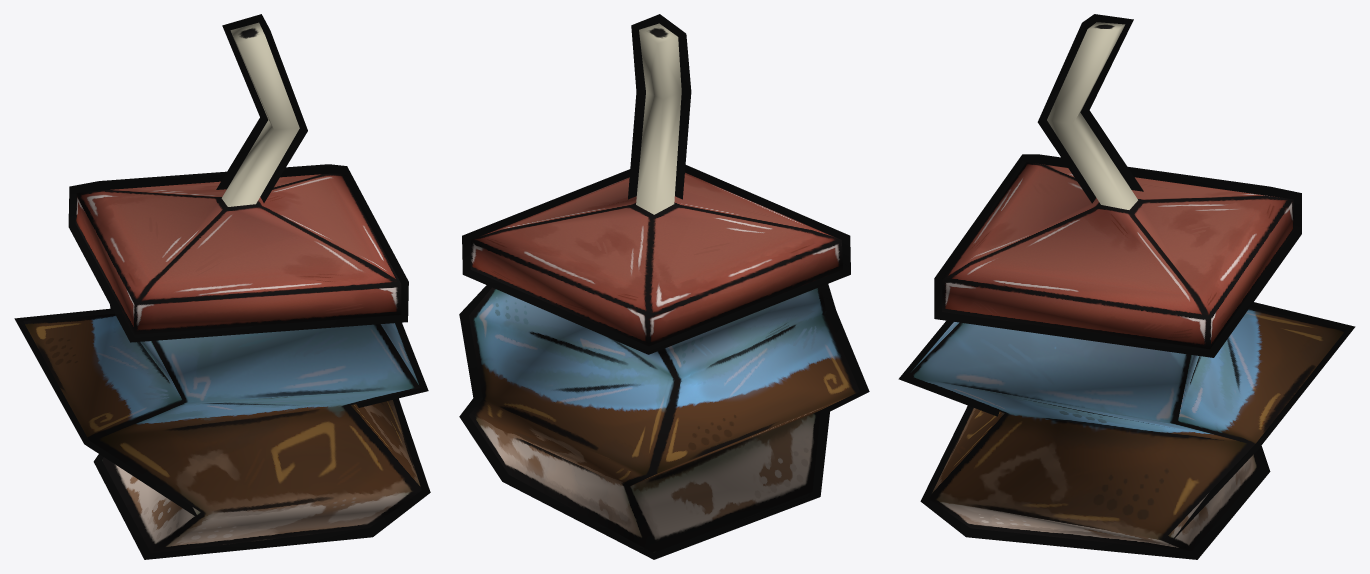
Rendered from Trash_IcedCoffee.glb.
3 renders of one model, left to right at view 1: azimuth 30°, elevation 25°; view 2: azimuth 150°, elevation 25°; view 3: azimuth 270°, elevation 25°, orthographic. The views are drawn at different scales.
Visible parts, largest first — view 1: IcedCoffee; view 2: IcedCoffee; view 3: IcedCoffee.
Boxes of the visible parts, <box> form: IcedCoffee: <box>14,14,430,559</box>; IcedCoffee: <box>459,14,869,559</box>; IcedCoffee: <box>898,14,1355,559</box>.
Bounding box in the file's own units: 3.04 × 3.78 × 3.18.
2 materials, 1 textured.
